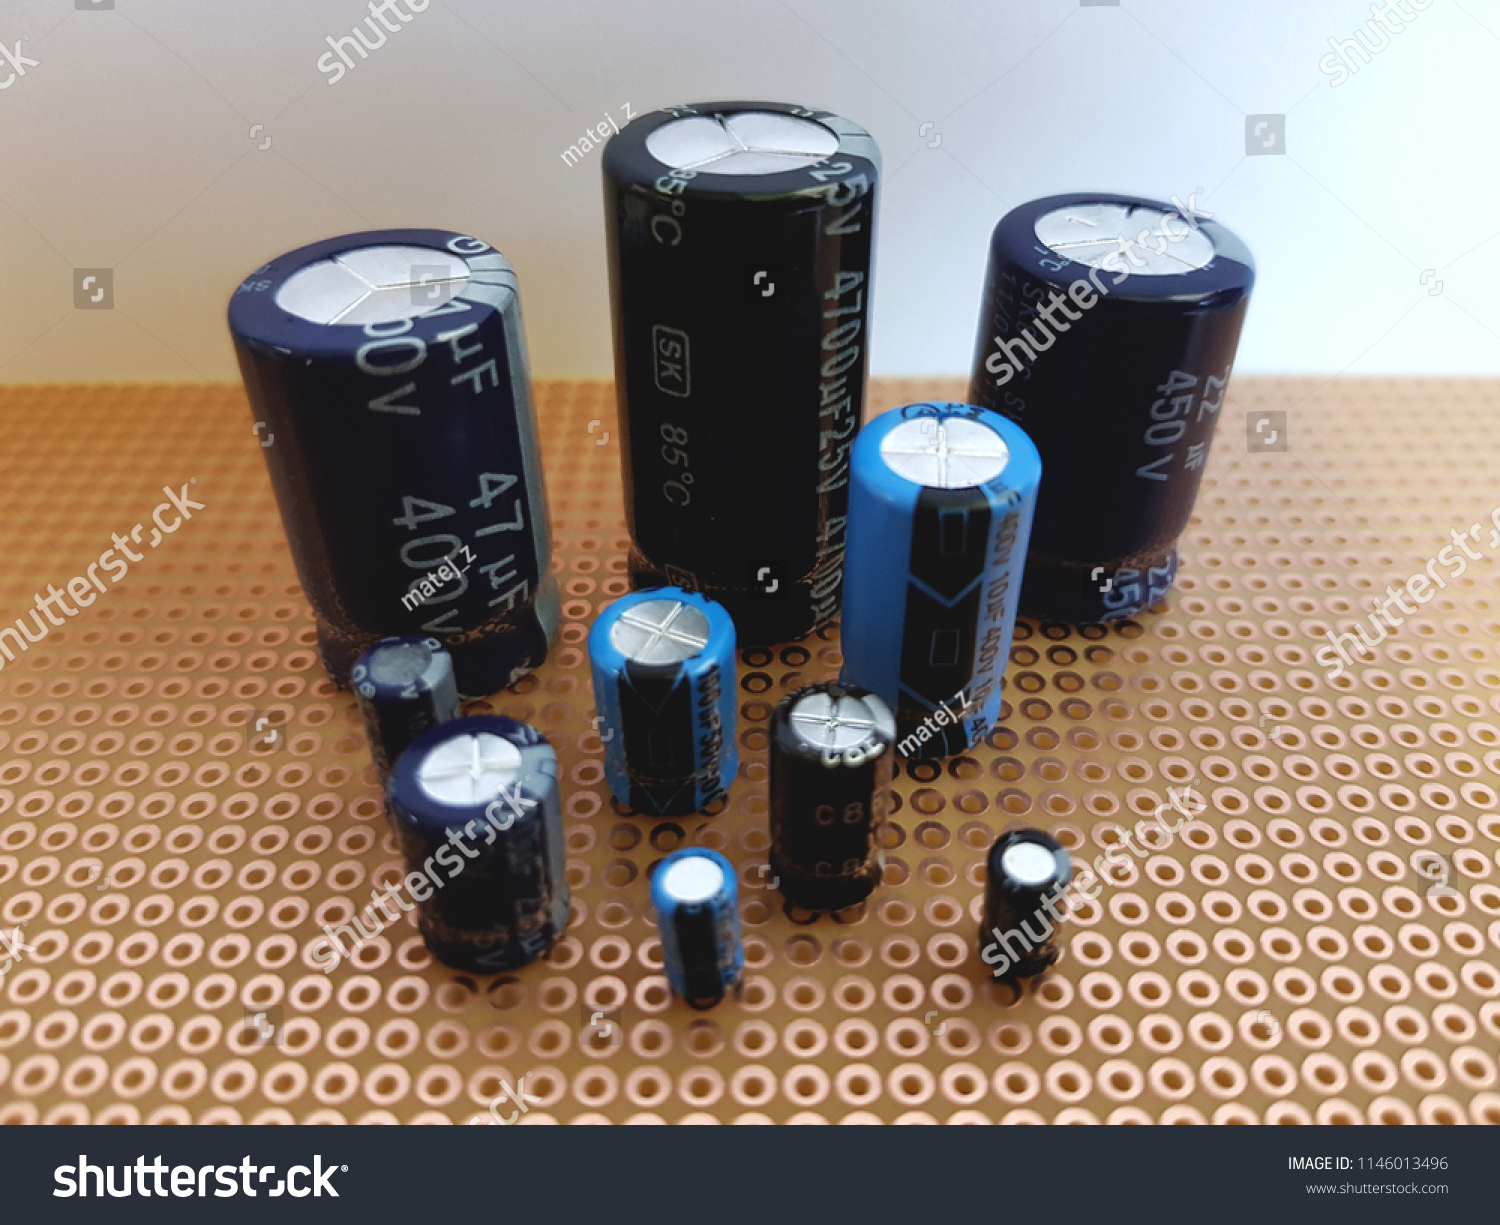capacitor: (189, 189, 581, 698), (957, 136, 1309, 695), (591, 81, 895, 647), (847, 386, 1073, 755), (377, 705, 581, 963), (748, 685, 946, 932), (578, 574, 767, 811), (625, 817, 784, 1031), (941, 810, 1110, 998), (335, 631, 471, 756)
